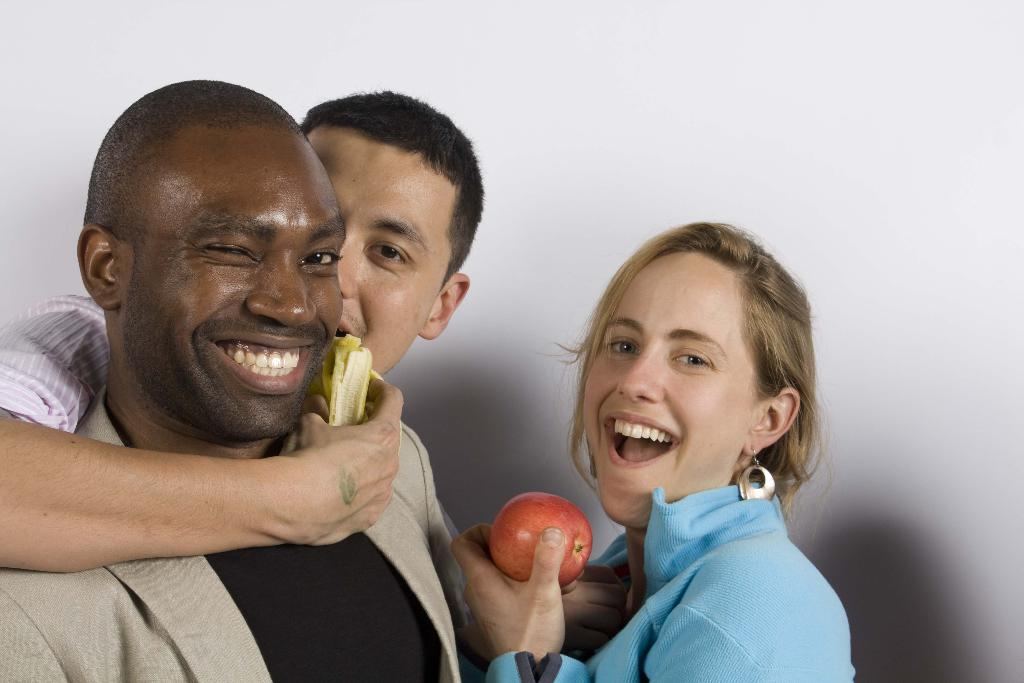Apple: (484, 499, 606, 602)
